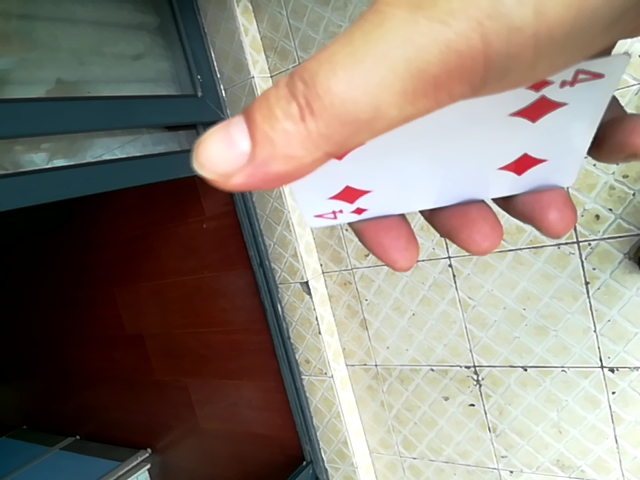fk 4: (279, 67, 640, 216)
